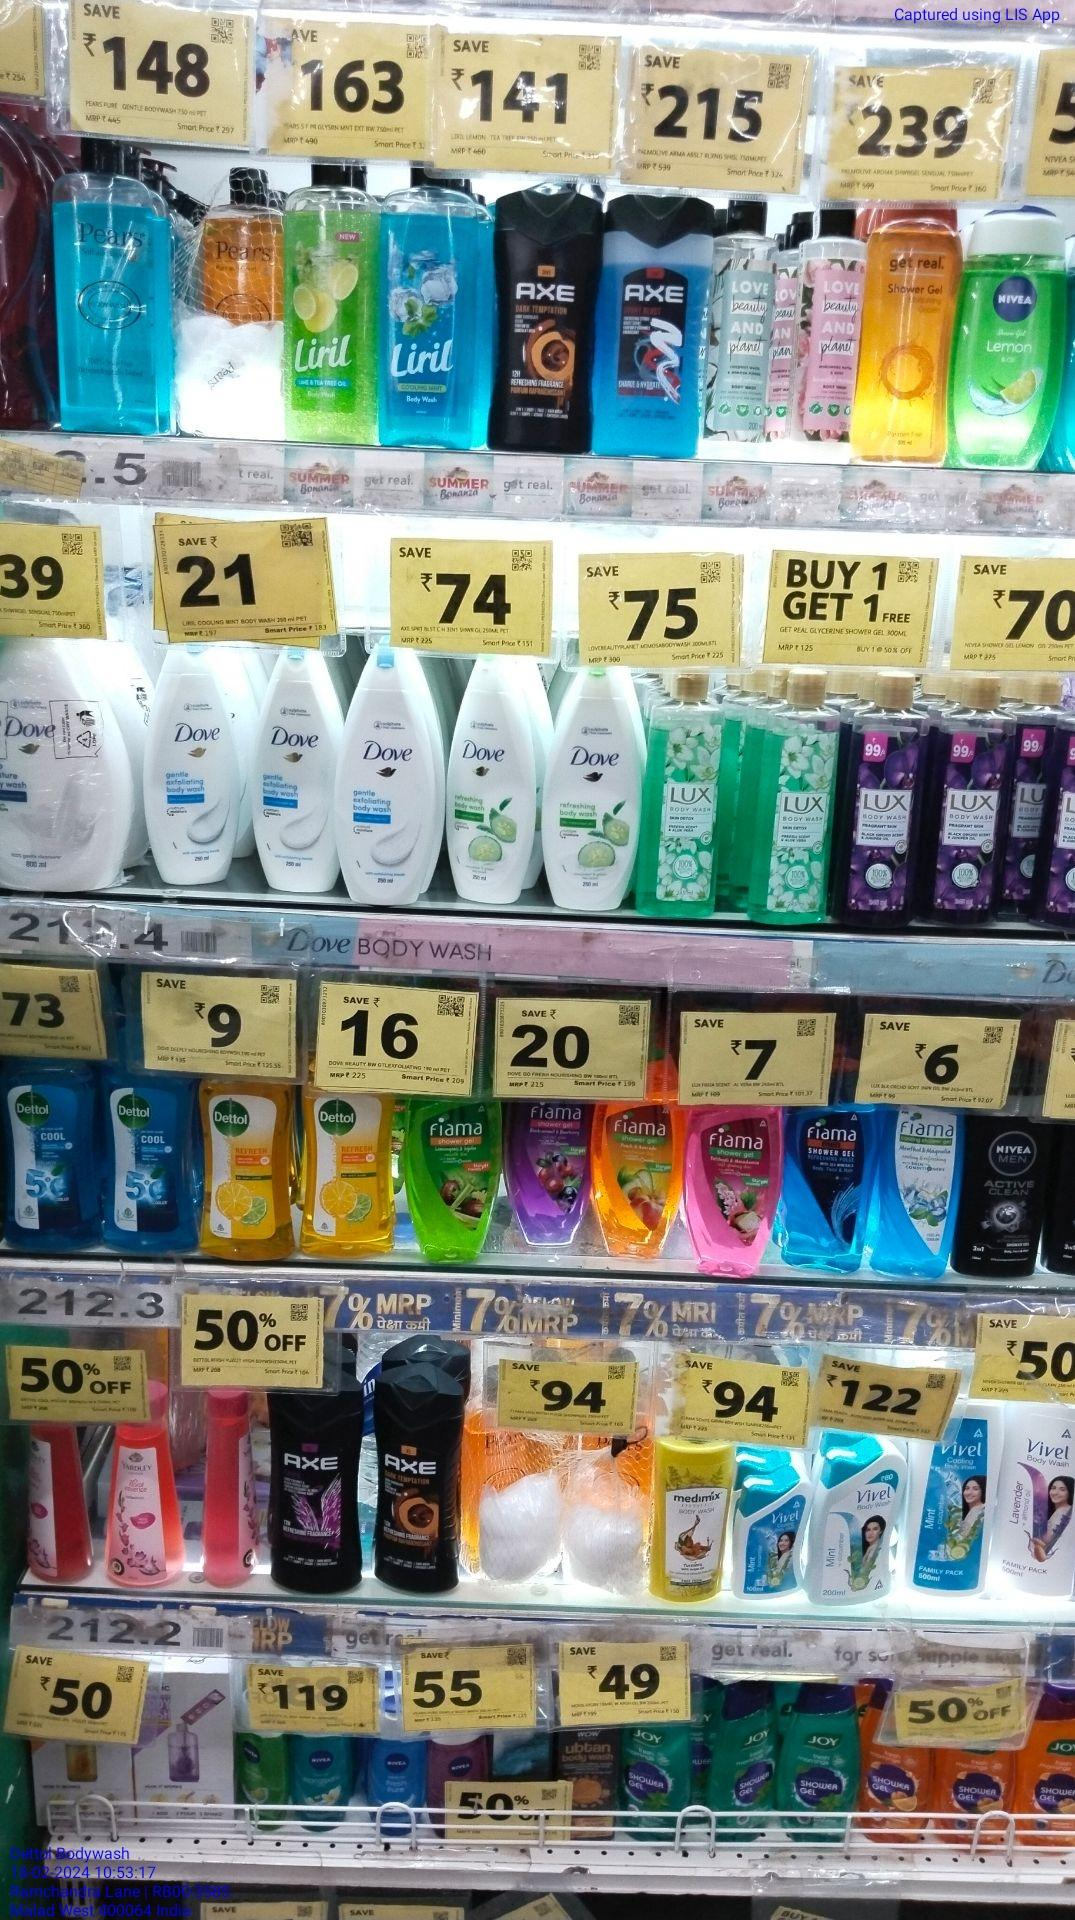Dettol_Bodywash_Cool: (0, 1056, 99, 1257), (107, 1055, 197, 1255)
Dettol_Bodywash_Refresh: (203, 1072, 298, 1262), (303, 1080, 397, 1257)
Dove_Gentle_Exfoliating_Body_Wash_250ML: (344, 637, 438, 907), (148, 642, 237, 885), (252, 646, 339, 895)
Dove_Refreshing_Body_Wash_250ML: (546, 661, 638, 907), (448, 653, 537, 906)
Fiama_Shower_Gel_Lemongrass_and_Jojoba_250ML: (406, 1096, 505, 1266)
Fiama_Shower_Gel_Patchouli_and_Macadamia_250ML: (686, 1102, 782, 1276)
Fiama_Shower_Gel_Peach_and_Avocado_250ML: (594, 1096, 682, 1262)
Get_Real_Shower_Gel_Moisturising_Glycerin_300ML: (859, 219, 951, 467)
Joy_Shower_Gel_Mint_and_Eucalyptus_250ML: (783, 1683, 859, 1838), (707, 1683, 778, 1837)
Lux_Black_Orchid_Scent_and_Juniper_Oil_Body_Wash_245ML: (844, 675, 914, 928), (926, 673, 981, 922), (1000, 675, 1049, 918)
Lux_Body_Wash_Skin_Detox_Freesia_Scent_and_Alove_Vera_245ML: (747, 666, 831, 924), (644, 666, 724, 923)
Nivea_Shower_Gel_Lemon_and_Oil_250ML: (959, 210, 1059, 473)
